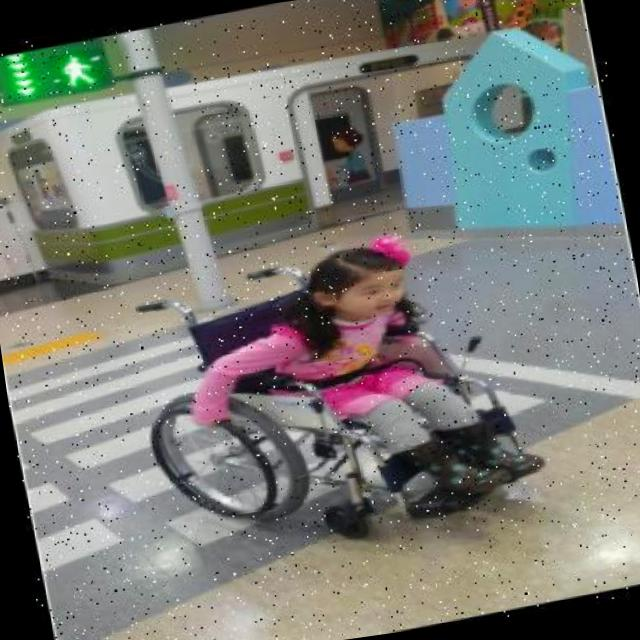Person: (123, 213, 540, 576)
